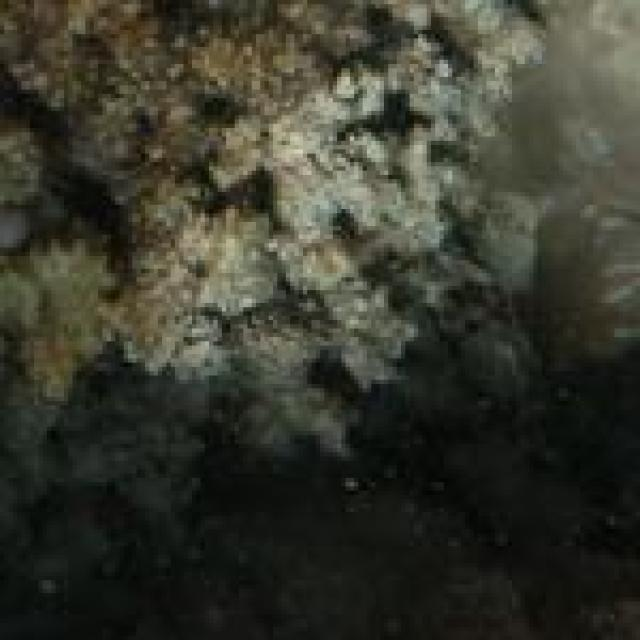Bleached Coral: (242, 68, 534, 478)
Healthy Coral: (0, 0, 216, 361)
